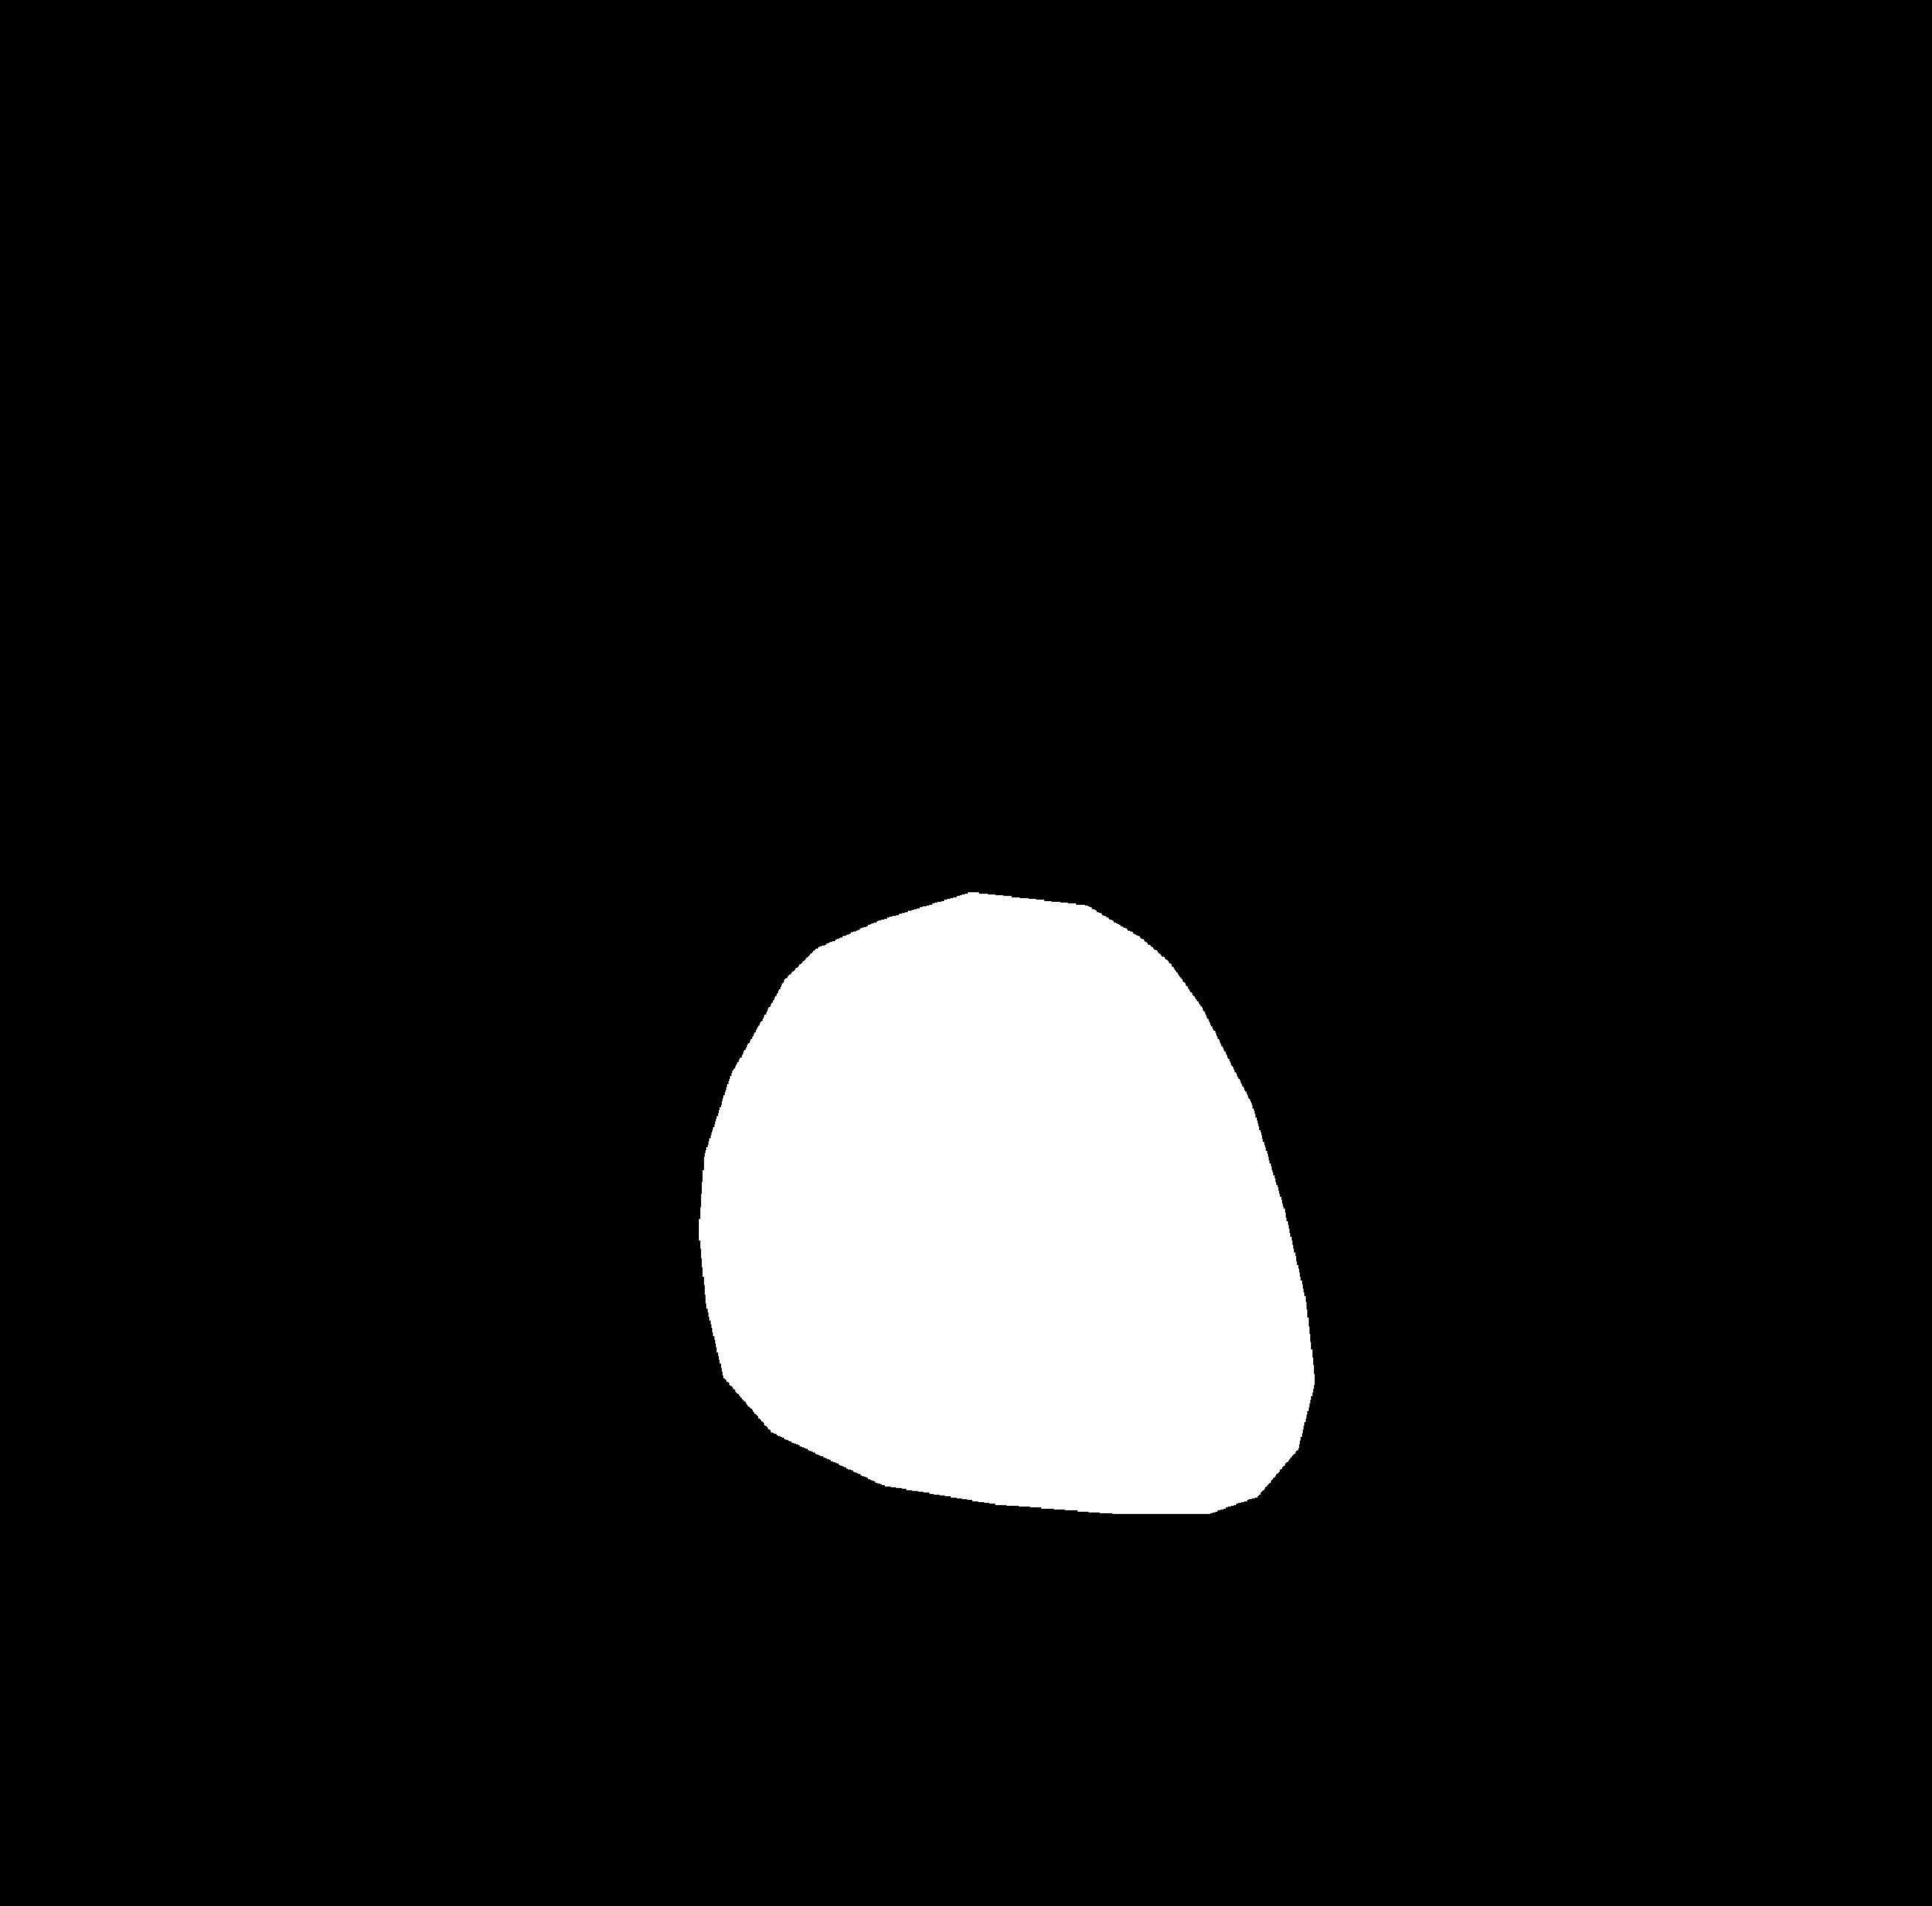heart: (709, 941, 1309, 1513)
left_lung: (168, 251, 860, 1759)
right_lung: (1040, 281, 1613, 1733)
